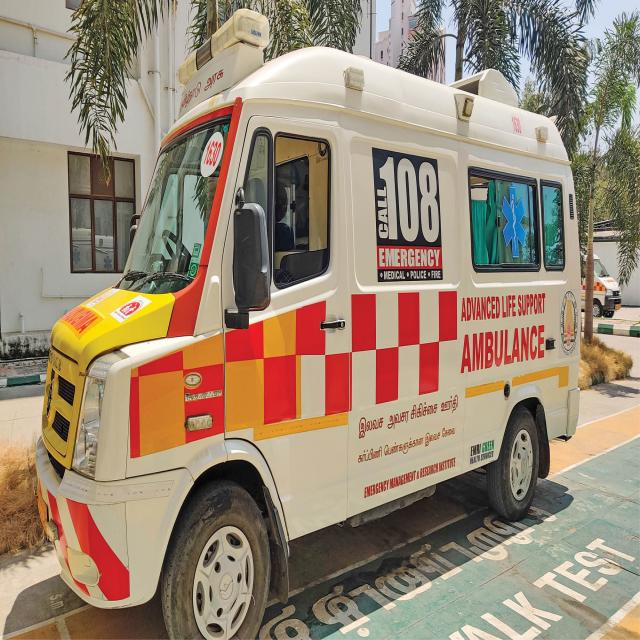ambulance: (36, 9, 581, 640)
